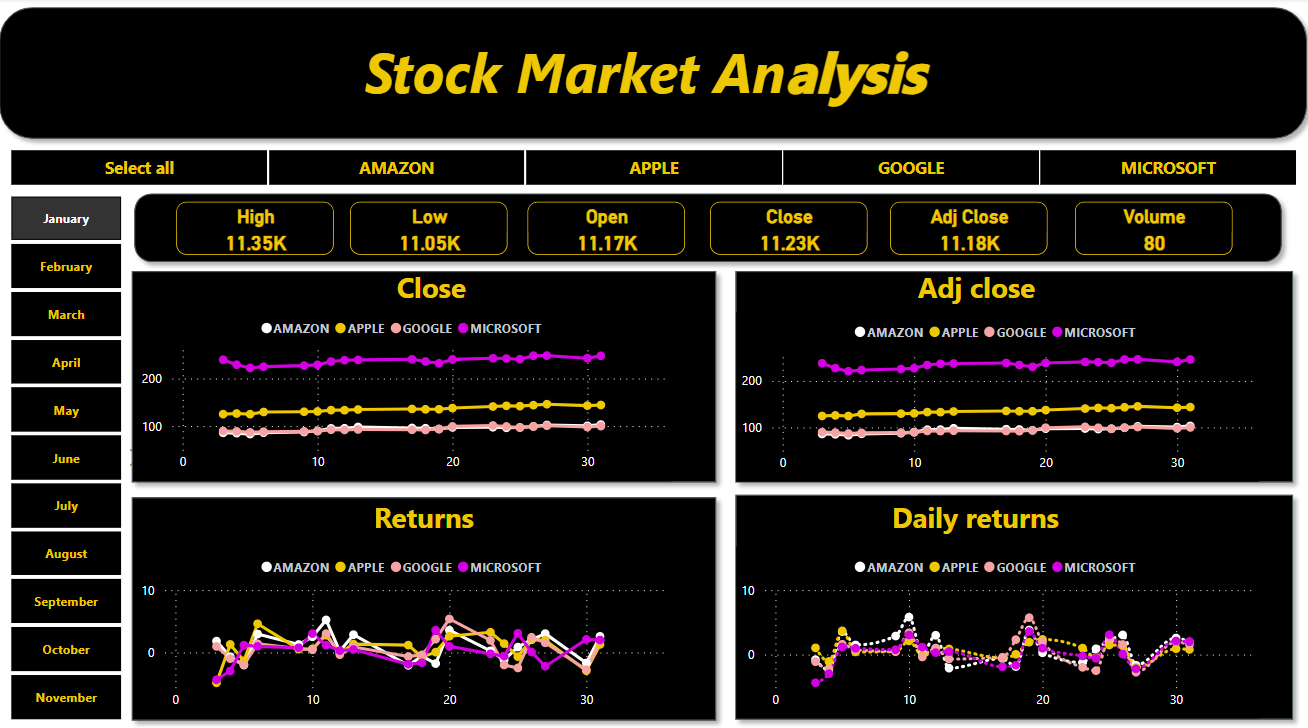

Layout of this report page (visuals, bound fields, positions):
{"tool":"powerbi","page":{"name":"Page 2","canvas":[1280,720],"ordinal":0},"visuals":[{"type":"shape","box":[0,0,1280,145],"z":0},{"type":"slicer","fields":{"Values":["Table1.company_name"]},"box":[0,145,1279,37.5],"z":1000},{"type":"slicer","fields":{"Values":["Table1.Date.Variation.Date Hierarchy.Month"]},"box":[0,189,145,508],"z":2000},{"type":"shape","box":[128.2,254.9,581.8,221.8],"z":3000},{"type":"textbox","box":[171,28.9,921.1,105.4],"z":4000},{"type":"lineChart","fields":{"Y":["Sum(Table1 (2).Close)"],"Series":["Table1 (2).company_name"],"Category":["Table1 (2).Date.Variation.Date Hierarchy.Day"]},"box":[141.1,299.5,515.5,167],"z":5000},{"type":"textbox","box":[270,256,311,46.1],"z":6000},{"type":"shape","box":[709.9,254.9,555.8,221.8],"z":7000},{"type":"textbox","box":[819.4,256,273,46.1],"z":8000},{"type":"shape","box":[709.9,470.9,555.8,234.7],"z":9000},{"type":"textbox","box":[819.4,477,256.3,46.1],"z":10000},{"type":"lineChart","fields":{"Y":["Sum(Table1 (2).Daily Return)"],"Series":["Table1 (2).company_name"],"Category":["Table1 (2).Date.Variation.Date Hierarchy.Day"]},"box":[720,529.9,504,165.6],"z":11000},{"type":"lineChart","fields":{"Y":["Sum(Table1 (2).Adj Close)"],"Series":["Table1 (2).company_name"],"Category":["Table1 (2).Date.Variation.Date Hierarchy.Day"]},"box":[720,302.4,504,164.2],"z":12000},{"type":"shape","box":[130,180,1125,84],"z":13000},{"type":"card","title":"High","fields":{"Values":["Sum(Table1 (2).High)"]},"box":[180,196,152,51],"z":14000},{"type":"shape","box":[128.2,472.3,581.8,233.3],"z":15000},{"type":"textbox","box":[270.7,477,296.6,46.1],"z":16000},{"type":"lineChart","fields":{"Y":["Sum(Table1 (2).returns)"],"Series":["Table1 (2).company_name"],"Category":["Table1 (2).Date.Variation.Date Hierarchy.Day"]},"box":[141.1,529.9,515.5,165.6],"z":17000},{"type":"card","title":"Low","fields":{"Values":["Sum(Table1 (2).Low)"]},"box":[347,196,152,51],"z":18000},{"type":"card","title":"Open","fields":{"Values":["Sum(Table1 (2).Open)"]},"box":[518.4,196,152,51],"z":19000},{"type":"card","title":"Close","fields":{"Values":["Sum(Table1 (2).Close)"]},"box":[694.1,196,152,51],"z":20000},{"type":"card","title":"Adj Close","fields":{"Values":["Sum(Table1 (2).Adj Close)"]},"box":[868.3,196,152,51],"z":21000},{"type":"card","title":"Volume","fields":{"Values":["CountNonNull(Table1 (2).Volume)"]},"box":[1046.9,196,152,51],"z":22000}]}

Visuals, with their boxes in screenshot pixels (x1, y1, x2, y2), scaled from the page's 1280x720 canvas onto the 1308x728 screenshot:
shape: rect(0, 0, 1307, 147)
slicer - Table1.company_name: rect(0, 147, 1307, 185)
slicer - Table1.Date.Variation.Date Hierarchy.Month: rect(0, 191, 148, 705)
shape: rect(131, 258, 726, 482)
textbox: rect(175, 29, 1116, 136)
lineChart - Sum(Table1 (2).Close) x Table1 (2).company_name: rect(144, 303, 671, 472)
textbox: rect(276, 259, 594, 305)
shape: rect(725, 258, 1293, 482)
textbox: rect(837, 259, 1116, 305)
shape: rect(725, 476, 1293, 713)
textbox: rect(837, 482, 1099, 529)
lineChart - Sum(Table1 (2).Daily Return) x Table1 (2).company_name: rect(736, 536, 1251, 703)
lineChart - Sum(Table1 (2).Adj Close) x Table1 (2).company_name: rect(736, 306, 1251, 472)
shape: rect(133, 182, 1282, 267)
"High" card: rect(184, 198, 339, 250)
shape: rect(131, 478, 726, 713)
textbox: rect(277, 482, 580, 529)
lineChart - Sum(Table1 (2).returns) x Table1 (2).company_name: rect(144, 536, 671, 703)
"Low" card: rect(355, 198, 510, 250)
"Open" card: rect(530, 198, 685, 250)
"Close" card: rect(709, 198, 865, 250)
"Adj Close" card: rect(887, 198, 1043, 250)
"Volume" card: rect(1070, 198, 1225, 250)
